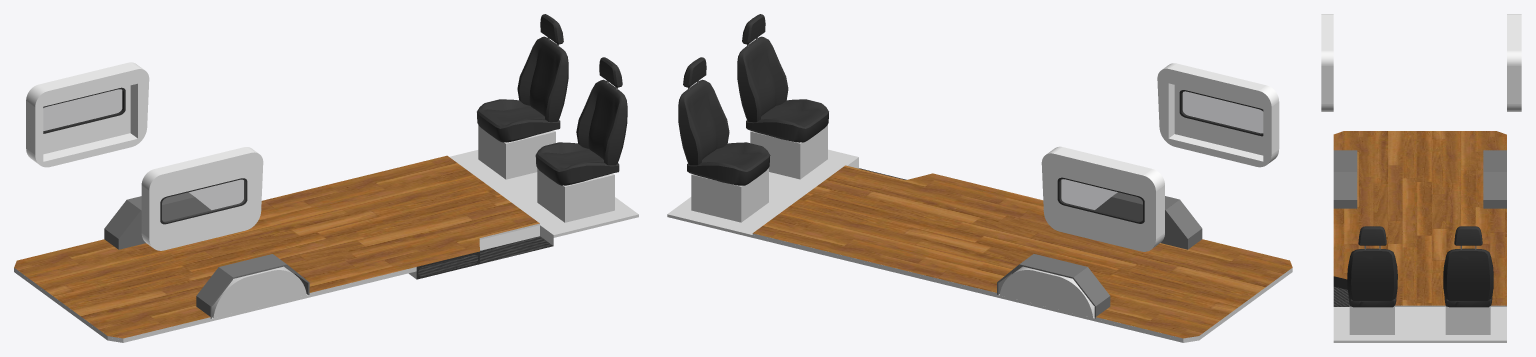
Rendered from sprinter-170-beds.glb.
3 views of the same model, side by side, from view 1: azimuth 30°, elevation 25°; view 2: azimuth 150°, elevation 25°; view 3: azimuth 270°, elevation 25° (orthographic). The views are drawn at different scales.
Visible parts, largest first — view 1: Geom3D (×14), Geom3D_Component#303 (×2), Geom3D_Component#338, Geom3D_Component#1076, Geom3D_Component#159; view 2: Geom3D (×12), Geom3D_Component#303 (×2), Geom3D_Component#338, Geom3D_Component#1076, Geom3D_Component#159; view 3: Geom3D (×12), Geom3D_Component#338, Geom3D_Component#303 (×2), Geom3D_Component#159.
Boxes of the visible parts, bbox=[...] form: Geom3D (×14): bbox=[14, 14, 627, 338]; Geom3D_Component#303 (×2): bbox=[478, 125, 614, 222]; Geom3D_Component#338: bbox=[14, 150, 638, 340]; Geom3D_Component#1076: bbox=[212, 266, 306, 317]; Geom3D_Component#159: bbox=[14, 214, 638, 342]; Geom3D (×12): bbox=[678, 14, 1292, 338]; Geom3D_Component#303 (×2): bbox=[691, 124, 827, 222]; Geom3D_Component#338: bbox=[667, 149, 1292, 340]; Geom3D_Component#1076: bbox=[999, 266, 1094, 317]; Geom3D_Component#159: bbox=[667, 214, 1292, 342]; Geom3D (×12): bbox=[1321, 14, 1521, 307]; Geom3D_Component#338: bbox=[1333, 305, 1506, 340]; Geom3D_Component#303 (×2): bbox=[1349, 306, 1490, 334]; Geom3D_Component#159: bbox=[1333, 340, 1506, 342].
Size of what is drawn, in the model's own units: 5.07 by 1.61 by 2.06.
Materials: 8 (2 with a texture image).
